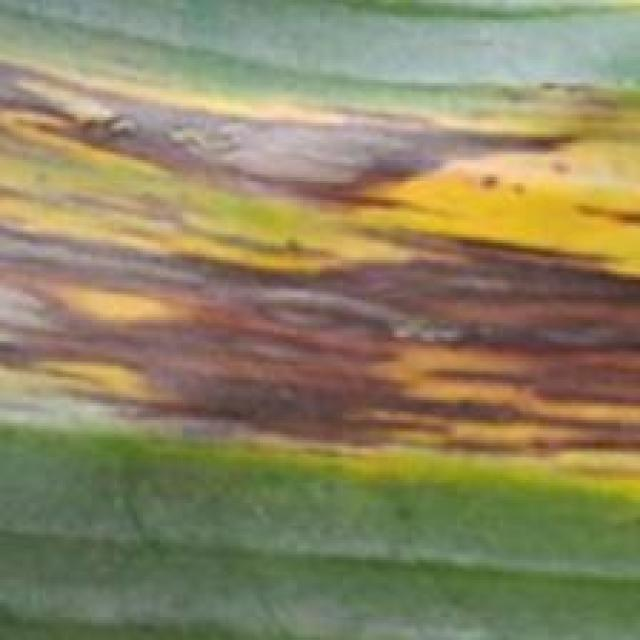Early_leaf_spot: (0, 35, 640, 519)
